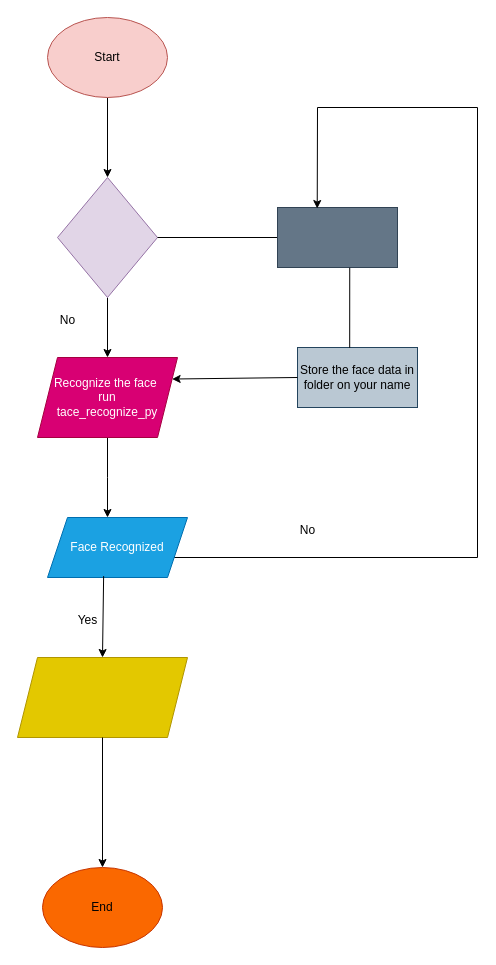
Some shapes in this 496 by 965 pixel diagram are drawn without their labels. The centre of each missing label's shape, as x and y in pixels:
"Give your photograph" goes at point (337, 237).
"New User? run create_dataset py" goes at point (107, 237).
"Stored in csv file with Registration Number &Date Time of Entry" goes at point (102, 697).
